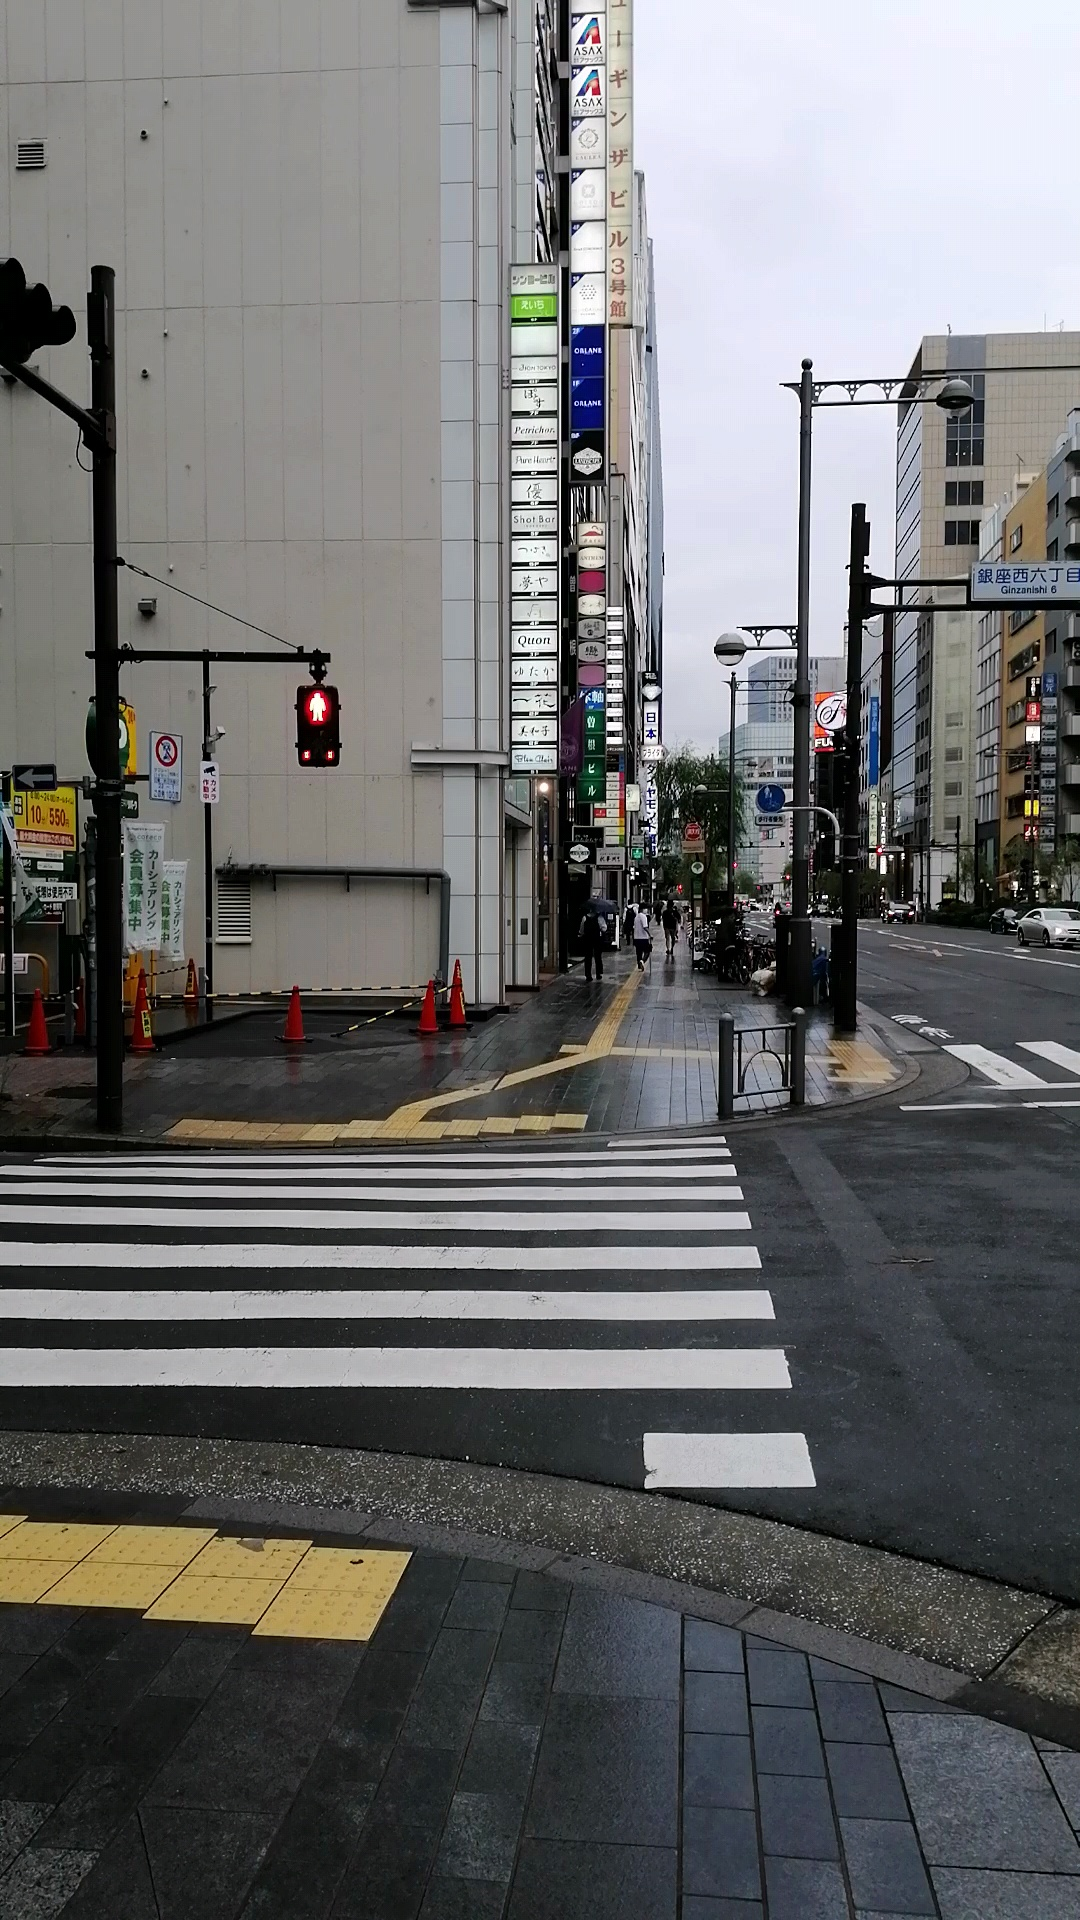red: (293, 684, 342, 767)
